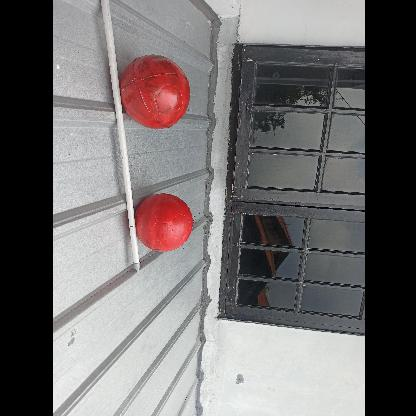red_ball: (119, 57, 192, 130), (132, 193, 192, 254)
